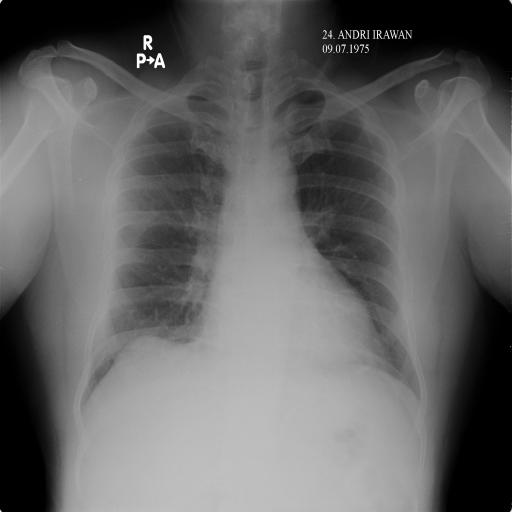kardiomegali: (69, 54, 431, 424)
